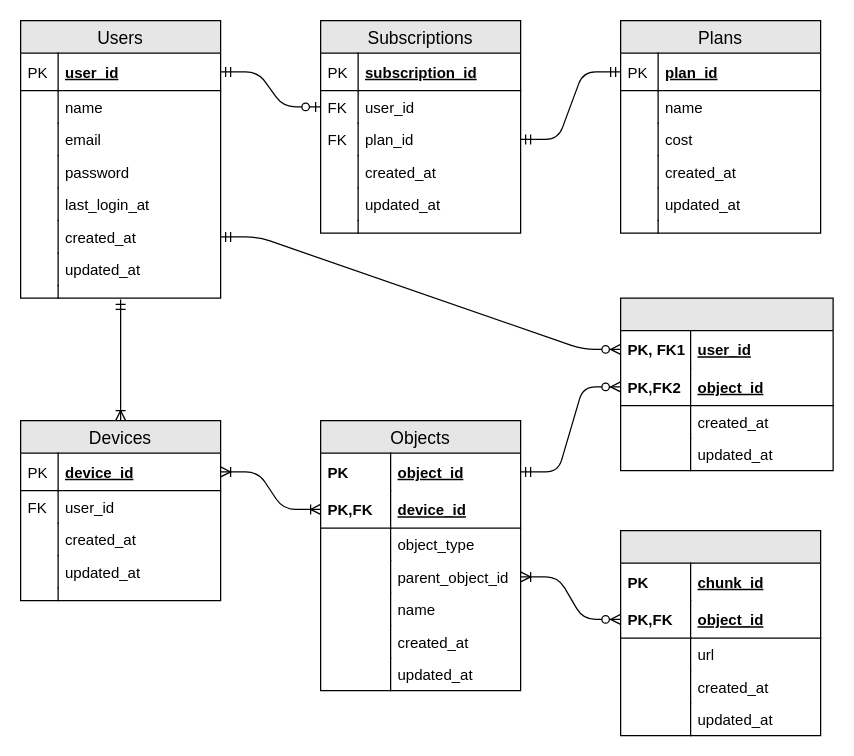
Image size: 854x756. Some labels were removed from this diagram. Each missing label, with the box of its shape:
AccessControlList: (619, 297, 833, 471)
Chunks: (619, 529, 821, 736)
